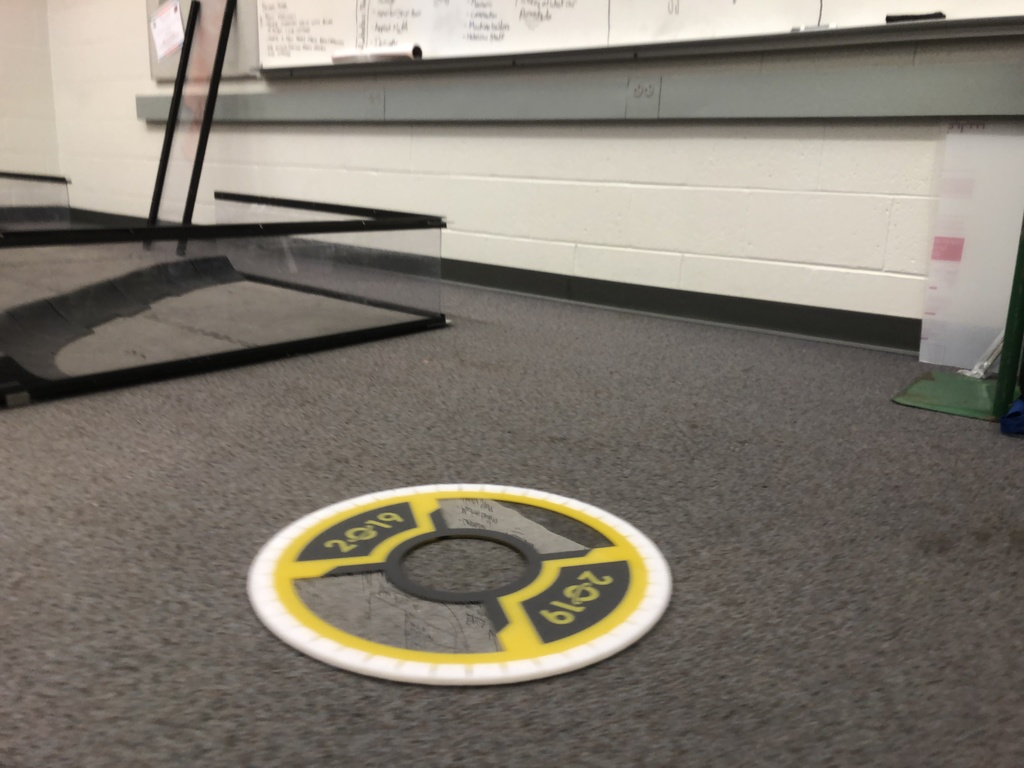hatch_panel: (238, 468, 697, 693)
